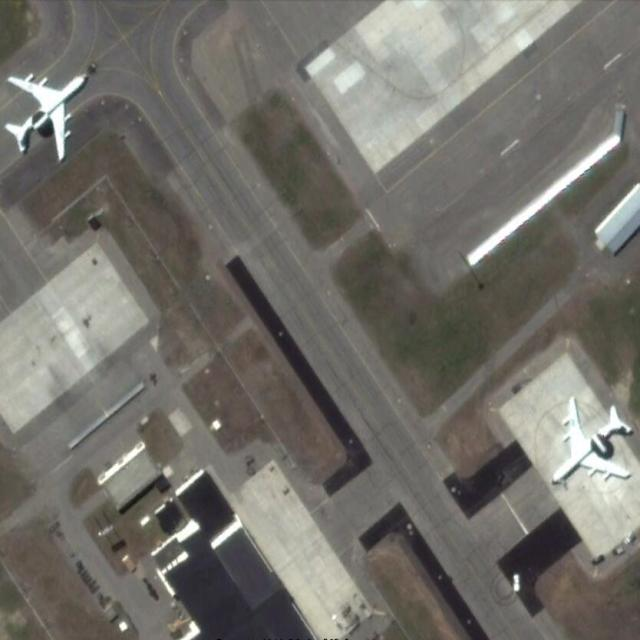fighter jet: (546, 385, 637, 492), (3, 66, 88, 164)
